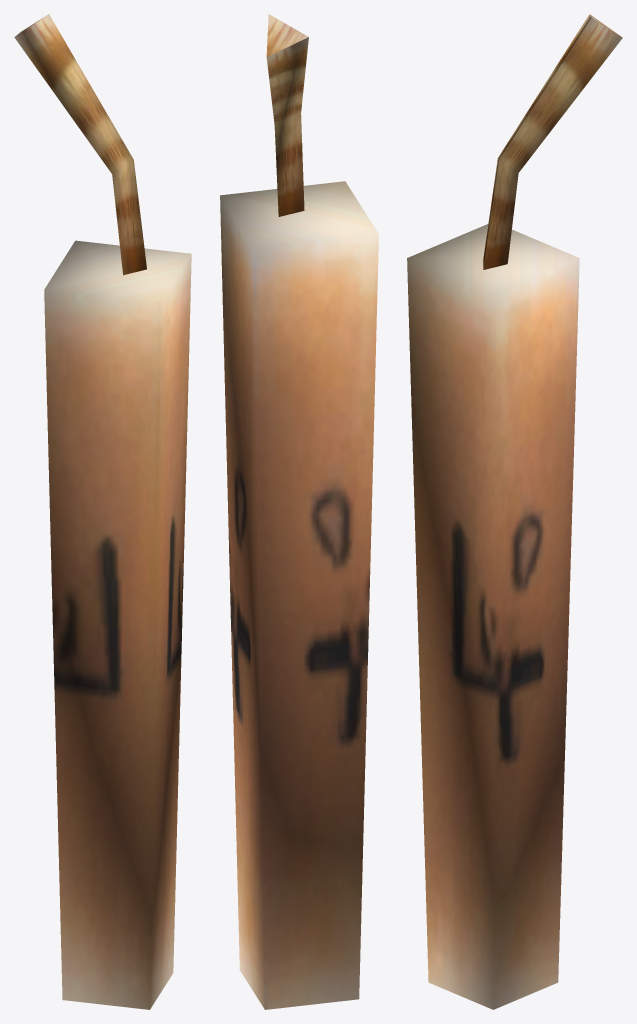
File: gunshopdynamite.obj
3 renders of one model, left to right at view 1: azimuth 30°, elevation 25°; view 2: azimuth 150°, elevation 25°; view 3: azimuth 270°, elevation 25°, orthographic. The views are drawn at different scales.
Visible parts, largest first — view 1: gunshopdynamite; view 2: gunshopdynamite; view 3: gunshopdynamite.
Boxes of the visible parts, box(x1,y1,x2,y2) form: gunshopdynamite: box(14, 14, 191, 1009); gunshopdynamite: box(220, 14, 378, 1009); gunshopdynamite: box(407, 14, 622, 1009).
Size of the model in its own units: 0.123 by 0.7504 by 0.1538.
1 material, 1 textured.
